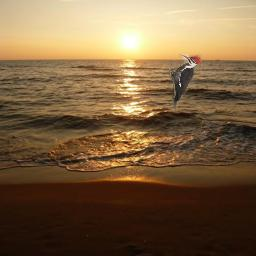Woodpecker: (166, 54, 202, 113)
